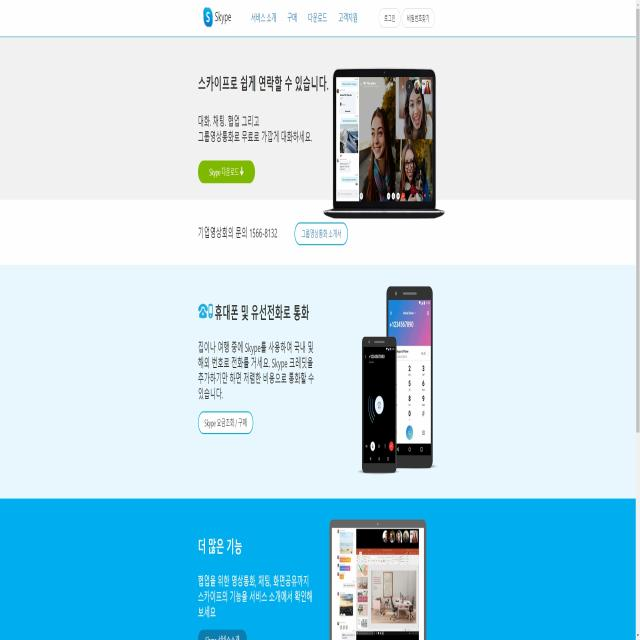menu-bar: (378, 3, 435, 34)
tab-bar: (202, 3, 358, 32)
